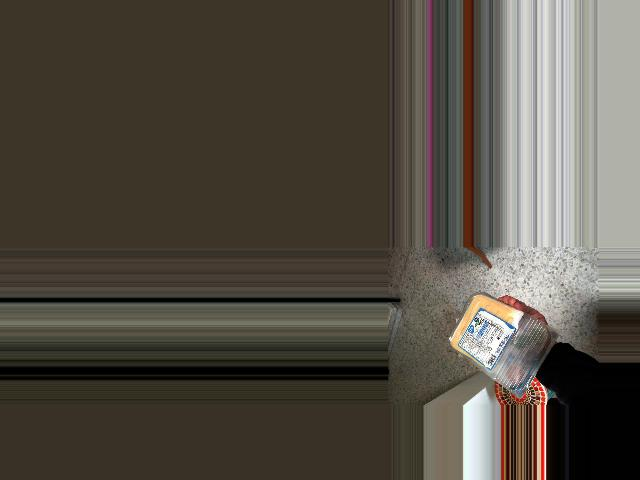cheese: (445, 299, 547, 388)
